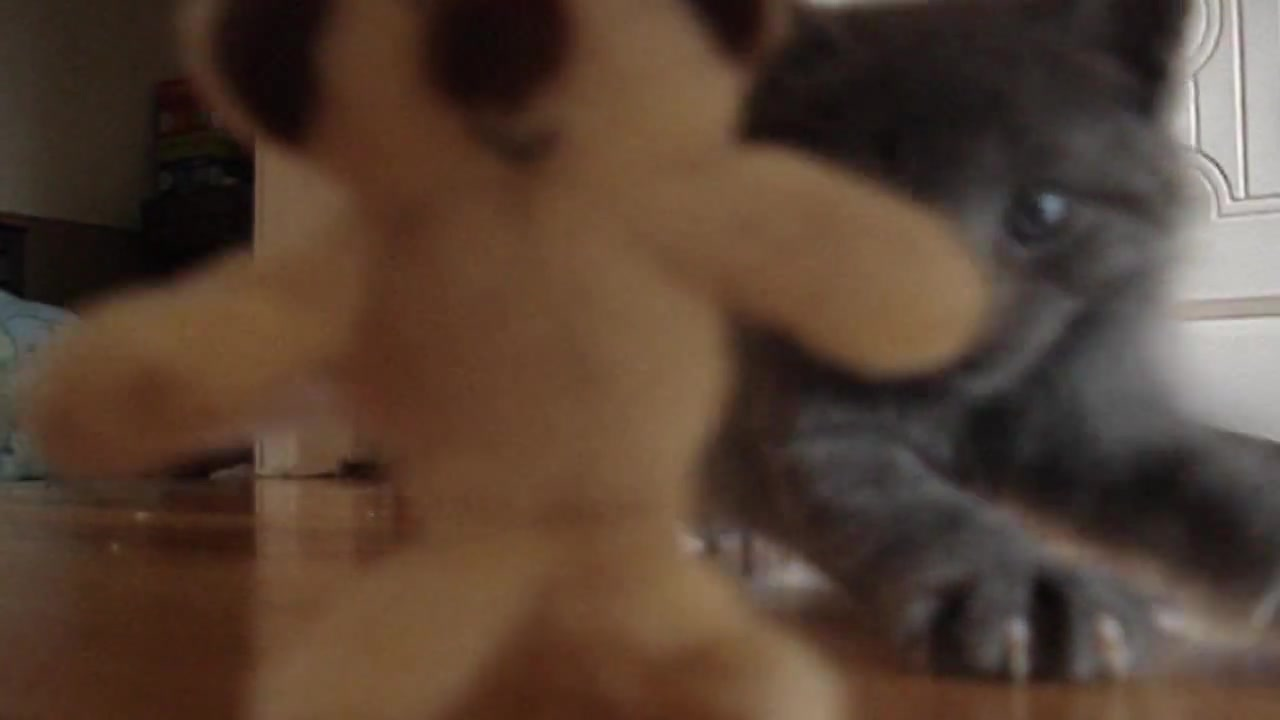cat: (693, 4, 1280, 691)
